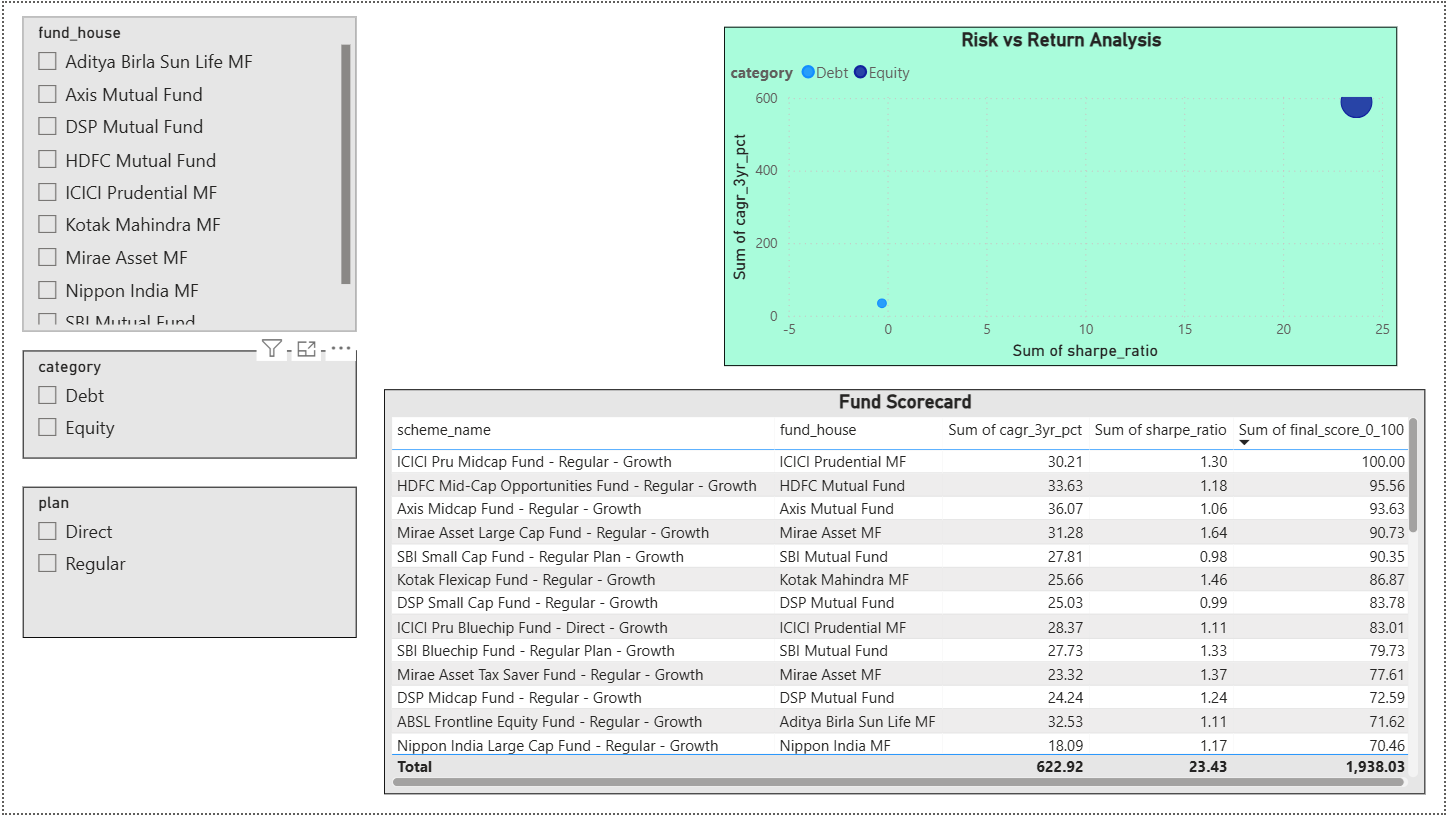

The page's visual inventory and layout, read from the dashboard file:
{"tool":"powerbi","page":{"name":"Fund Performance ","canvas":[1280,720],"ordinal":1},"visuals":[{"type":"slicer","fields":{"Values":["clean_fund_master.category"]},"box":[17,308.8,296.7,96],"z":0},{"type":"slicer","fields":{"Values":["clean_fund_master.plan"]},"box":[16.7,430,296.7,134.4],"z":1000},{"type":"slicer","fields":{"Values":["clean_fund_master.fund_house"]},"box":[17,12.2,296.7,279.6],"z":2000},{"type":"scatterChart","title":"Risk vs Return Analysis","fields":{"X":["Sum(fund_scorecard.sharpe_ratio)"],"Y":["Sum(fund_scorecard.cagr_3yr_pct)"],"Size":["Sum(fund_scorecard.final_score_0_100)"],"Series":["fund_scorecard.category"]},"box":[640.3,21,598.3,301.8],"z":3000},{"type":"tableEx","title":"Fund Scorecard","fields":{"Values":["fund_scorecard.scheme_name","fund_scorecard.fund_house","Sum(fund_scorecard.cagr_3yr_pct)","Sum(fund_scorecard.sharpe_ratio)","Sum(fund_scorecard.final_score_0_100)"]},"box":[338,342.9,925.2,359.9],"z":4000}]}

Visuals, with their boxes in screenshot pixels (x1, y1, x2, y2), scaled from the page's 1280x720 canvas onto the 1449x818 screenshot:
slicer - clean_fund_master.category: [x1=19, y1=351, x2=355, y2=460]
slicer - clean_fund_master.plan: [x1=19, y1=489, x2=355, y2=641]
slicer - clean_fund_master.fund_house: [x1=19, y1=14, x2=355, y2=332]
"Risk vs Return Analysis" scatterChart: [x1=725, y1=24, x2=1402, y2=367]
"Fund Scorecard" tableEx: [x1=383, y1=390, x2=1430, y2=798]
